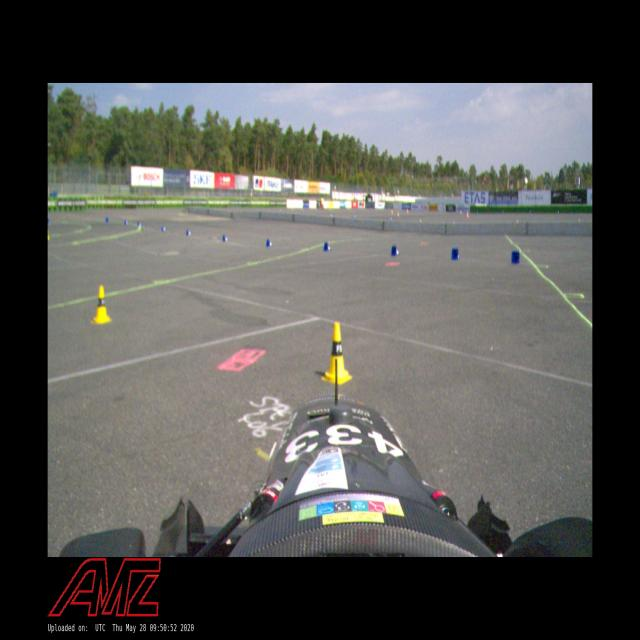blue_cone: (390, 245, 400, 257), (451, 248, 460, 260), (323, 242, 332, 252), (266, 238, 274, 247), (222, 234, 228, 242), (186, 229, 192, 236)
yellow_cone: (321, 321, 353, 385), (91, 284, 112, 326)
